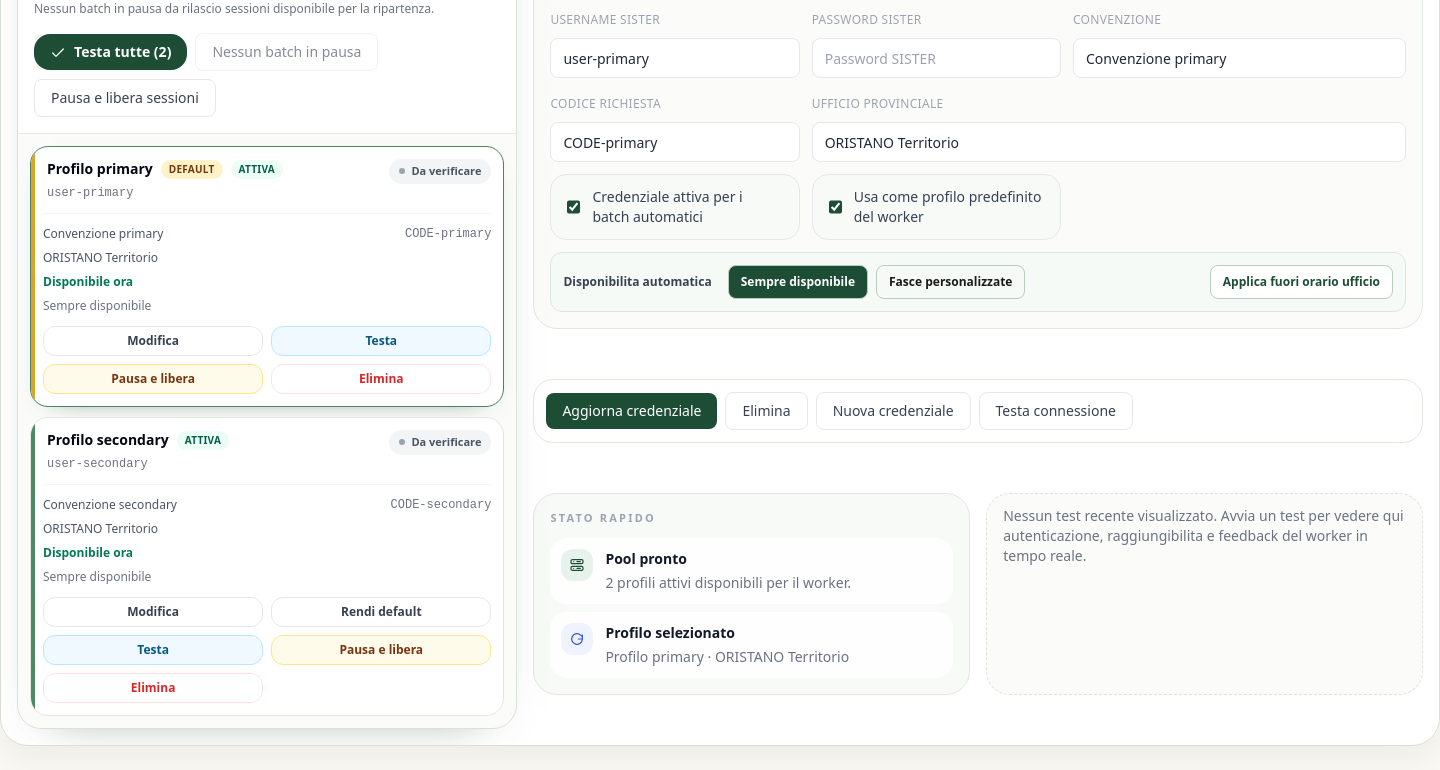
it: R38 mounted SISTER credential refresh › falls back from a removed selection with blank username
The width and height of the screenshot is (1440, 770).
(page scrolled)
Check: the heading "Profilo secondary" is shown, box top-left (47, 430), bottom-right (169, 450)
Check: the list item "Profilo secondary" is shown, box top-left (47, 430), bottom-right (169, 449)
Step 1. Click the button "Modifica" below "Convenzione secondary" → (153, 612), box top-left (43, 597), bottom-right (263, 627)
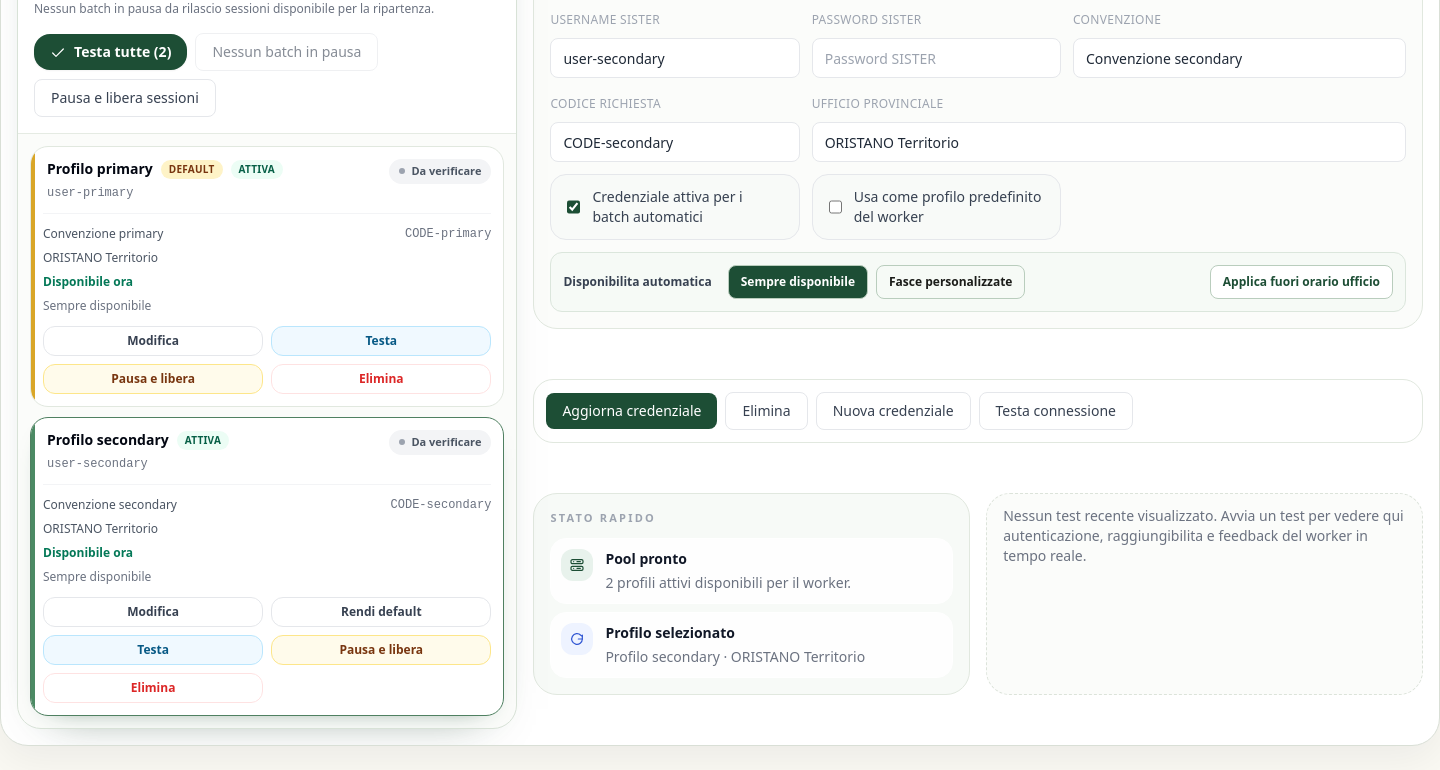
Step 2. Clear the field with placeholder "Codice fiscale / username" → (675, 58), box top-left (550, 38), bottom-right (800, 78)
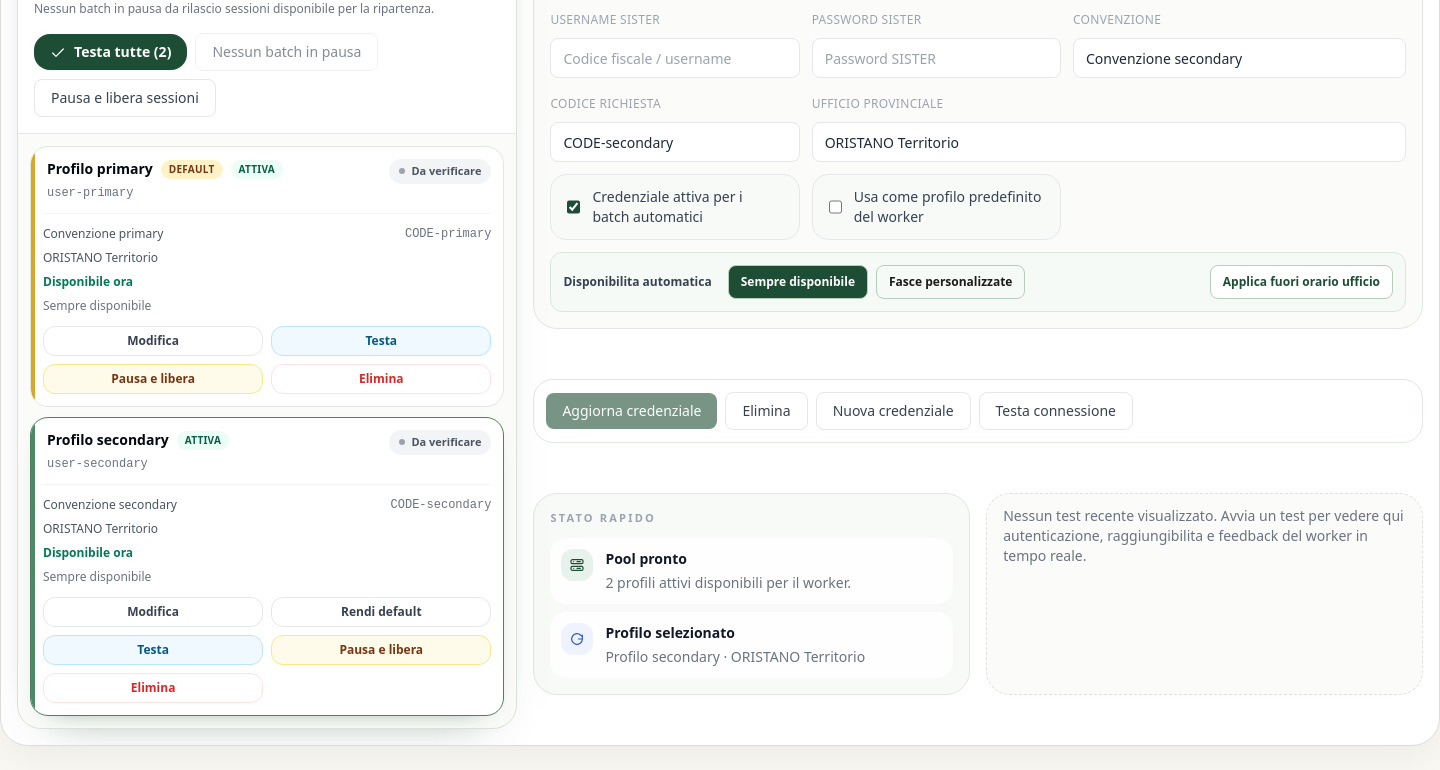
Step 3. Type "password-preservata" into the password field with placeholder "Password SISTER" → (936, 58), box top-left (812, 38), bottom-right (1061, 78)
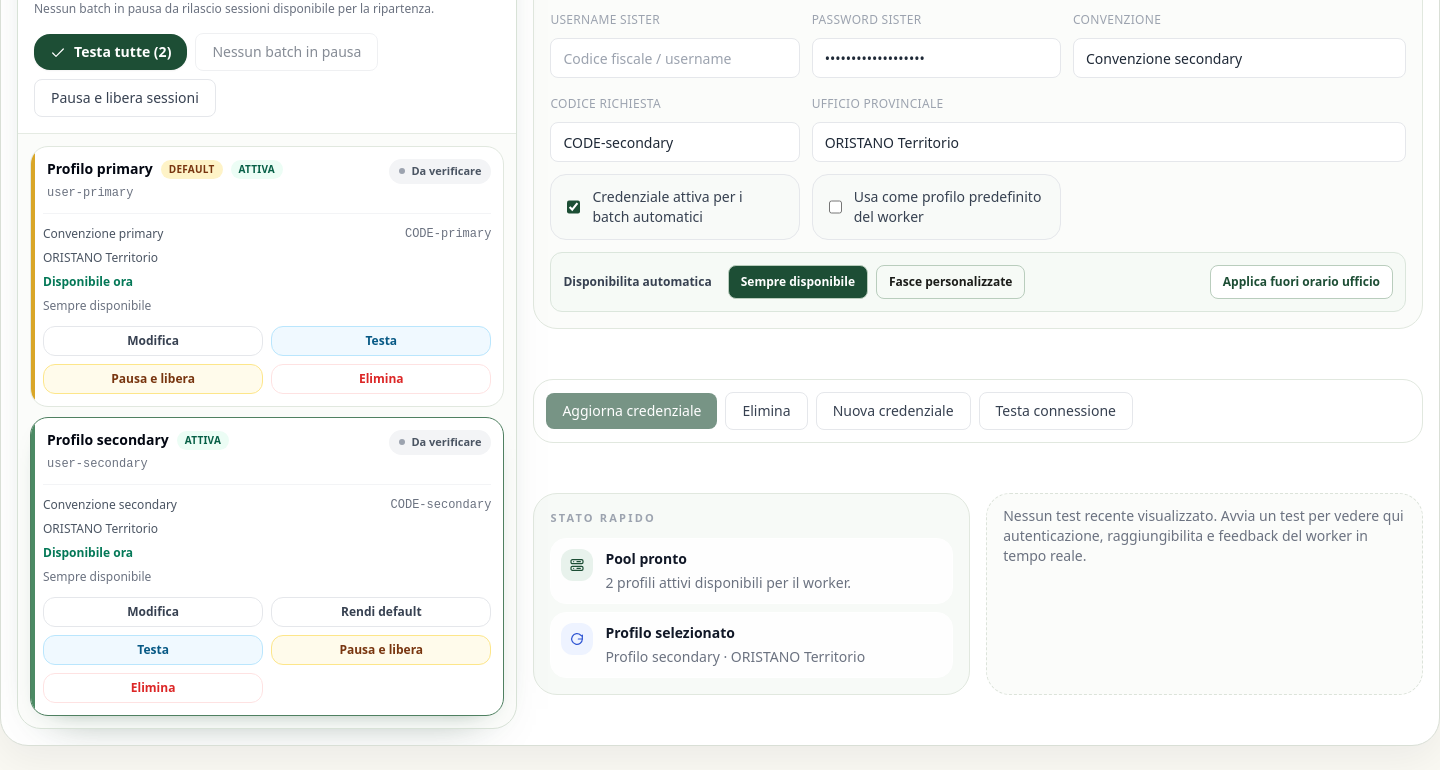
Step 4. Click the button "Pausa e libera sessioni" → (125, 98), box top-left (34, 79), bottom-right (216, 117)
(page scrolled)
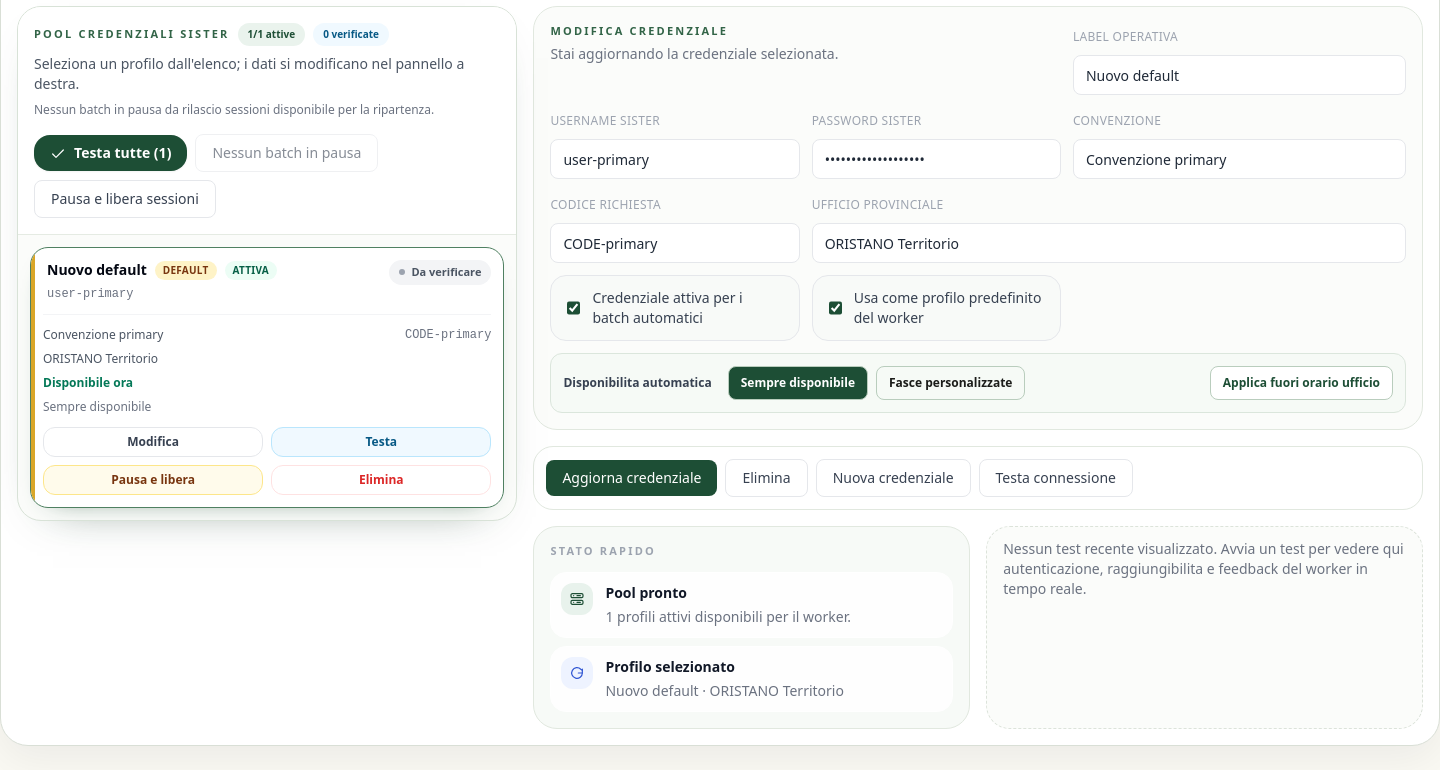
Check: the field with placeholder "Codice fiscale / username" holds "user-primary", box top-left (550, 139), bottom-right (800, 179)
Check: the field with placeholder "SISTER principale" holds "Nuovo default", box top-left (1073, 55), bottom-right (1406, 95)
Check: the button "Aggiorna credenziale" is enabled
Step 5. Click the button "Aggiorna credenziale" → (632, 478), box top-left (546, 460), bottom-right (717, 496)
(page scrolled)
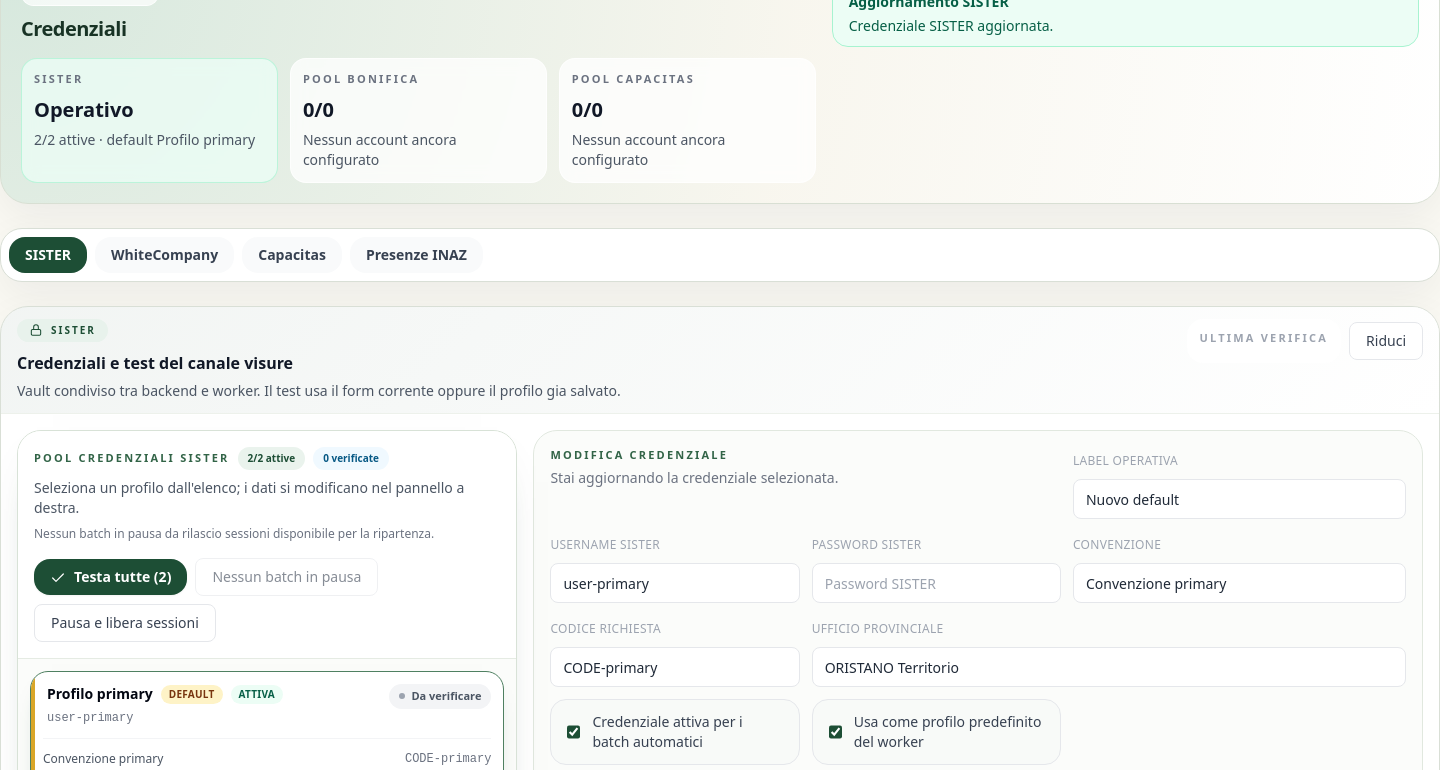
Check: the text "Credenziale SISTER aggiornata." is shown, box top-left (849, 16), bottom-right (1053, 35)
